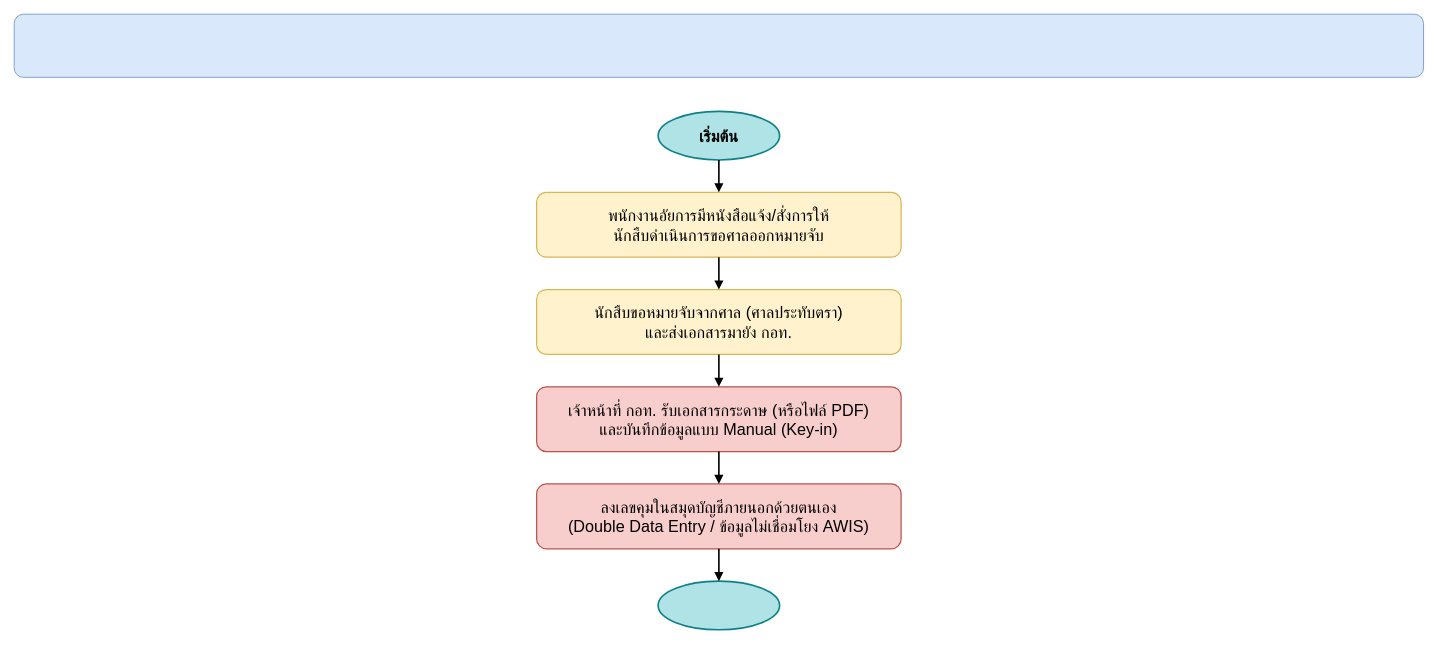
Image size: 1438x645. Some labels were removed from this diagram. The box of each missing label's shape, as (x1, y1, x2, y2) in pixels:
AS-IS : กิจกรรมที่ 9 ระบบฐานข้อมูลการดำเนินการตามหมายจับ 9.1 ระบบบันทึกหมายจับ: (13, 13, 1424, 77)
สิ้นสุด: (657, 580, 780, 630)
